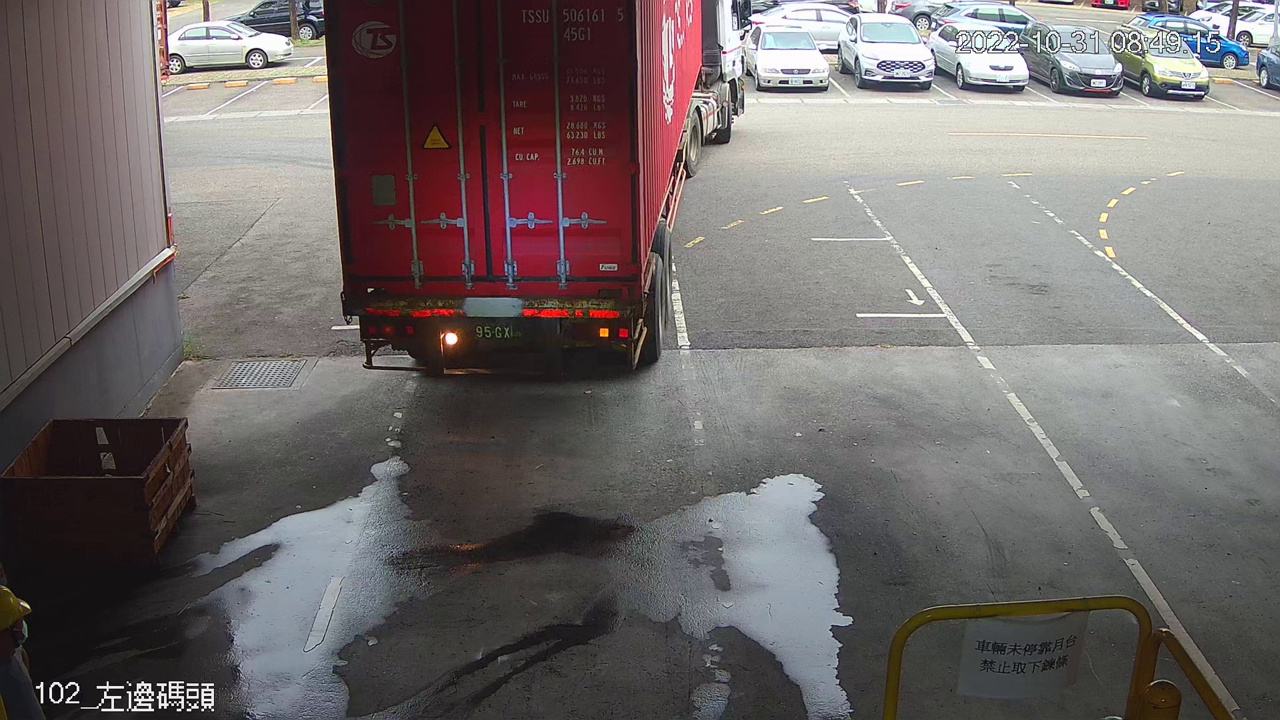container: (511, 2, 630, 46)
